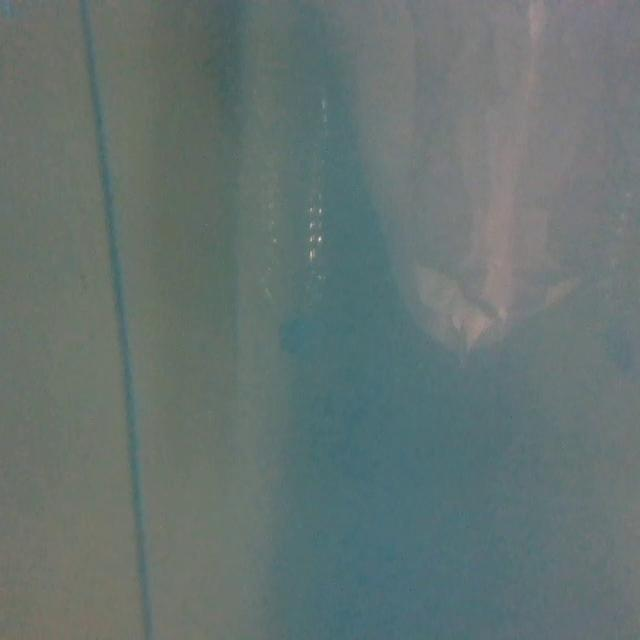plastic bags: (338, 2, 639, 352)
plastic bottle: (244, 73, 332, 364)
